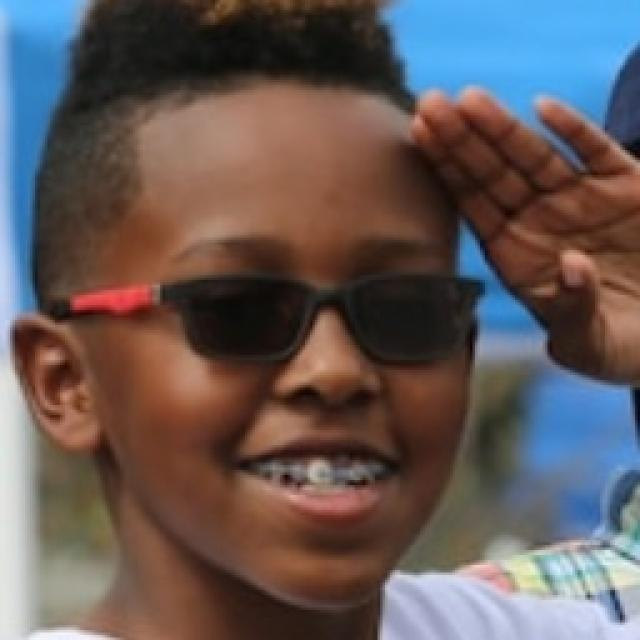glasses: (119, 243, 496, 383)
